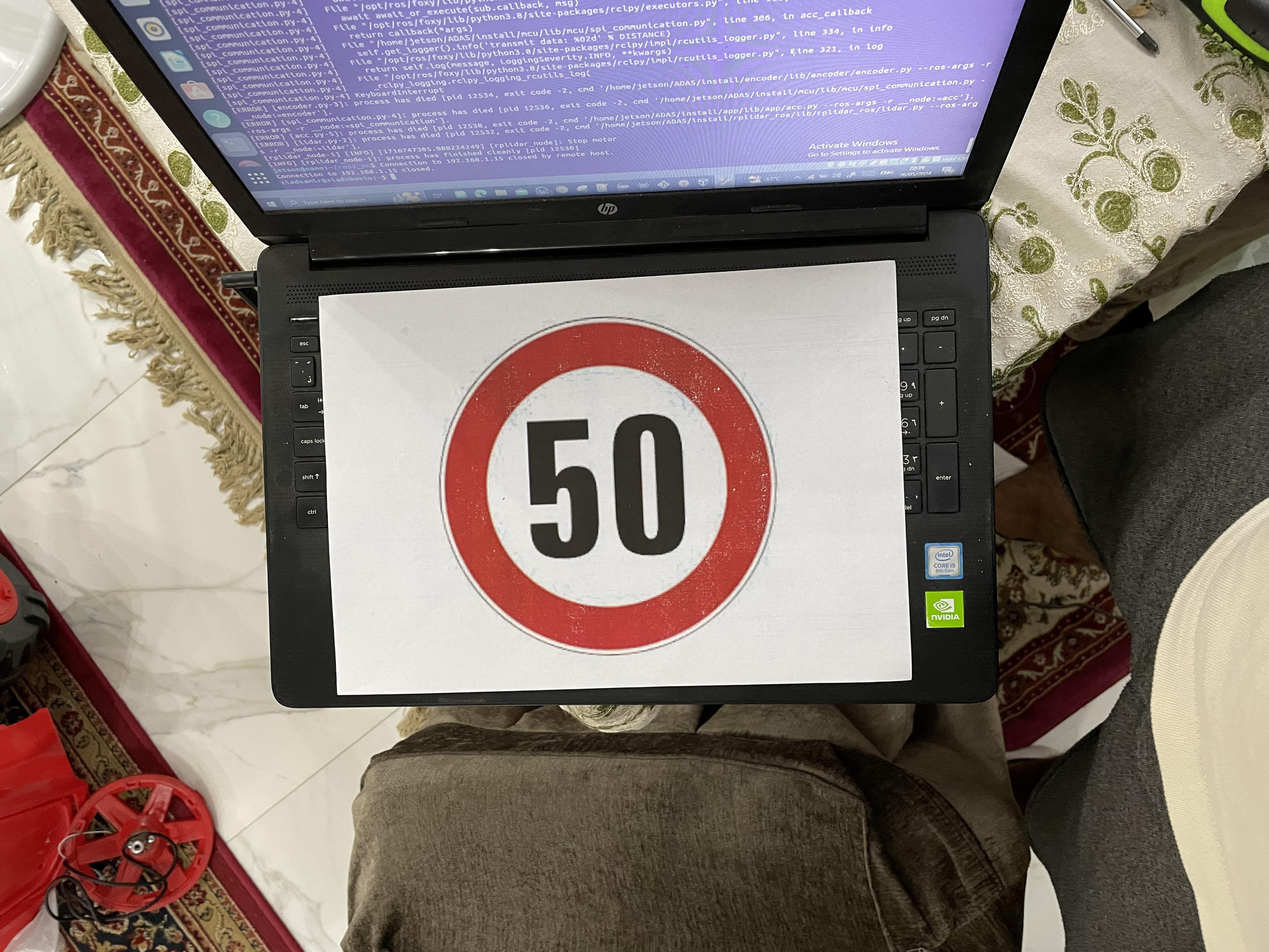50-Speed: (379, 322, 868, 583)
